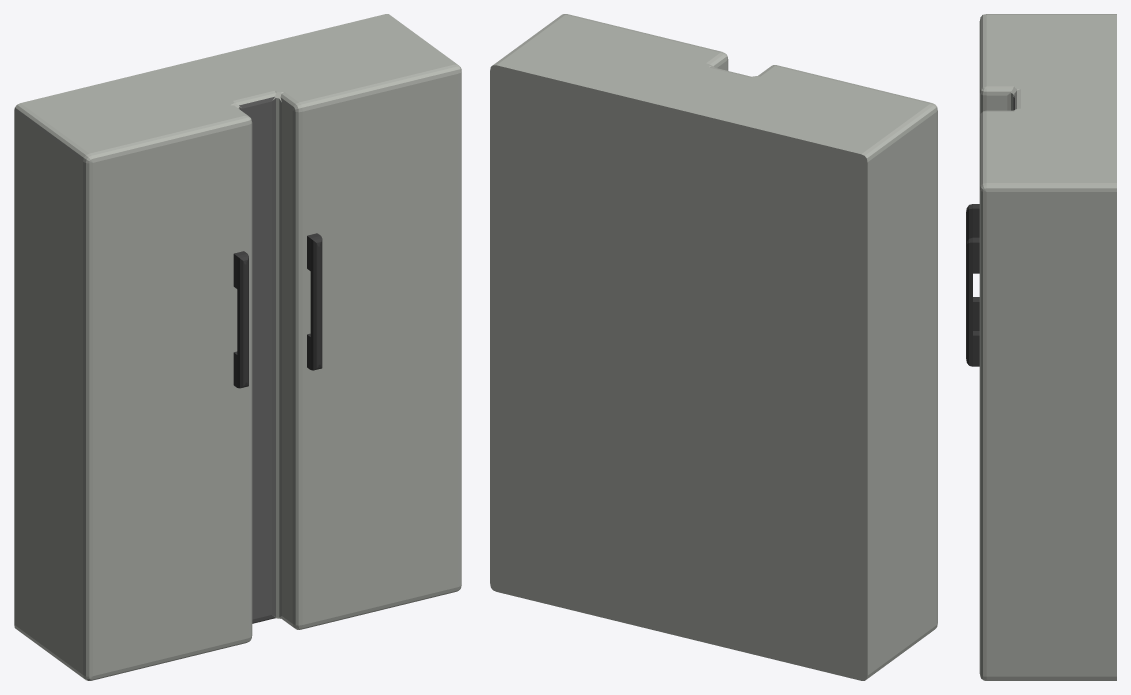
File: refrigerator.obj
The picture shows the model from 3 angles, left to right: view 1: azimuth 30°, elevation 25°; view 2: azimuth 150°, elevation 25°; view 3: azimuth 270°, elevation 25°; orthographic projection. The views are drawn at different scales.
Visible parts, largest first — view 1: Box001; view 2: Box001; view 3: Box001.
Part boxes in pixels (box(x1,y1,x2,y2)): Box001: box(14, 14, 461, 680); Box001: box(490, 14, 937, 680); Box001: box(966, 14, 1116, 680).
Bounding box in the file's own units: 15 × 20 × 5.5.
